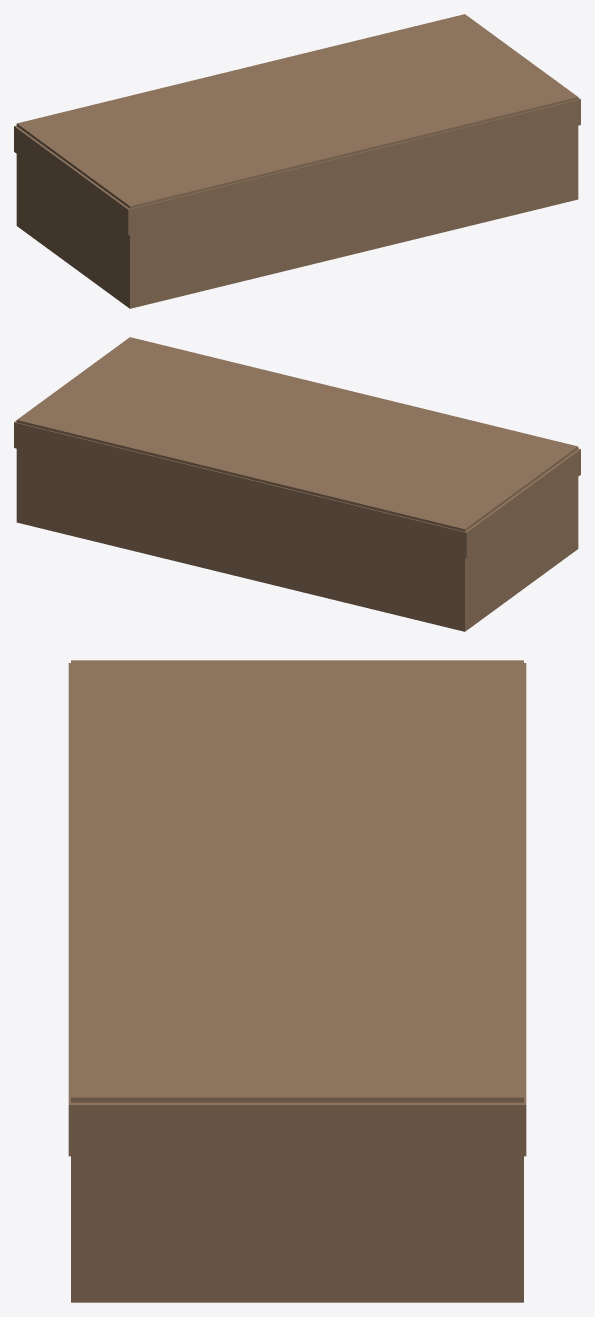
The model's file is g_choco_bar.glb.
3 views of the same model, one above another, from view 1: azimuth 30°, elevation 25°; view 2: azimuth 150°, elevation 25°; view 3: azimuth 270°, elevation 25° (orthographic). The views are drawn at different scales.
Parts seen in each view (by area): view 1: g_choco_bar; view 2: g_choco_bar; view 3: g_choco_bar.
Boxes of the visible parts, x1,y1,x2,y2 form: g_choco_bar: [14, 14, 580, 308]; g_choco_bar: [14, 337, 580, 631]; g_choco_bar: [68, 660, 526, 1302].
Bounding box in the file's own units: 0.1616 × 0.035 × 0.0707.
